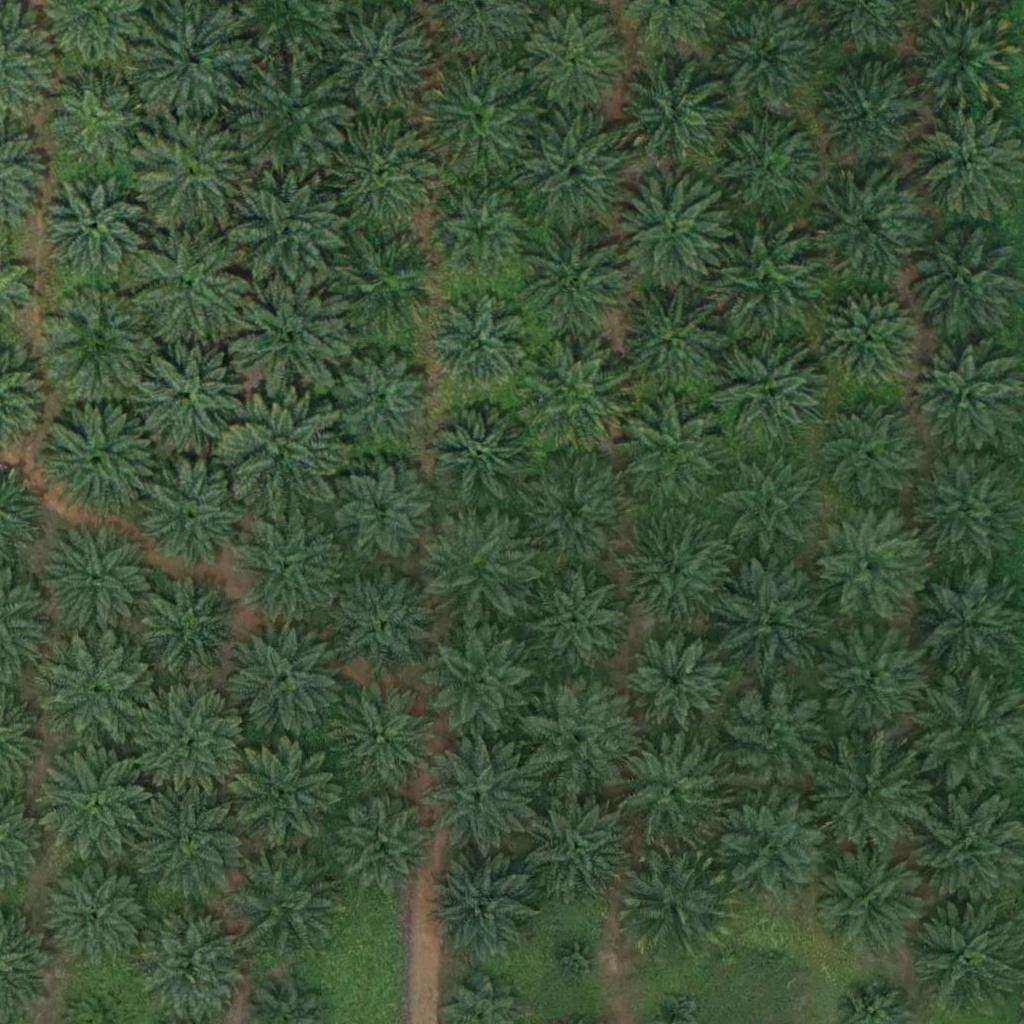Kelapa_Sawit: (235, 55, 348, 169), (520, 221, 633, 335), (618, 397, 731, 511), (910, 892, 1023, 1006), (813, 623, 926, 737), (810, 733, 923, 847), (711, 452, 824, 566), (713, 562, 826, 676), (621, 517, 734, 631), (135, 906, 248, 1020), (41, 747, 154, 861), (907, 1, 1020, 114), (134, 3, 247, 116), (44, 400, 157, 513), (135, 116, 248, 229), (230, 175, 343, 288), (232, 281, 345, 394), (226, 396, 339, 509), (424, 54, 537, 167), (521, 114, 634, 227), (615, 175, 728, 288), (617, 284, 730, 397), (906, 222, 1019, 335), (910, 344, 1023, 457), (815, 843, 928, 956), (717, 683, 830, 796), (425, 627, 538, 740), (425, 740, 538, 853), (428, 855, 541, 968), (323, 676, 436, 789), (139, 687, 252, 800), (133, 782, 246, 895), (40, 522, 153, 635), (44, 638, 157, 751), (323, 6, 435, 120), (331, 114, 443, 228), (521, 346, 633, 460), (619, 844, 731, 957), (710, 1, 822, 114), (43, 286, 155, 399), (137, 228, 249, 341), (135, 334, 247, 447), (328, 229, 440, 342), (517, 455, 629, 568), (618, 55, 730, 168), (708, 108, 820, 221), (707, 224, 819, 337), (715, 338, 827, 451), (810, 171, 922, 284), (814, 395, 926, 508), (812, 510, 924, 623), (722, 790, 834, 903), (617, 734, 729, 847), (517, 680, 629, 793), (521, 787, 633, 900), (420, 509, 532, 622), (232, 513, 344, 626), (229, 624, 341, 737), (234, 736, 346, 849), (233, 843, 345, 956), (139, 458, 251, 571), (525, 9, 625, 110), (46, 63, 146, 164), (42, 174, 142, 275), (332, 346, 432, 447), (334, 465, 434, 566), (434, 407, 534, 508), (816, 63, 916, 164), (819, 286, 919, 387), (626, 631, 726, 732), (528, 572, 628, 673), (334, 569, 434, 670), (335, 796, 435, 897), (144, 575, 244, 676), (429, 294, 529, 394), (49, 864, 149, 964), (435, 191, 523, 279), (555, 934, 605, 985), (746, 927, 796, 977)
